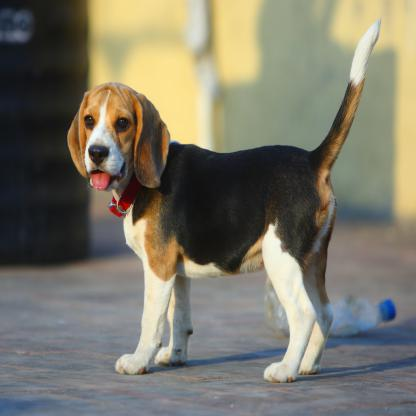Bigl: (58, 18, 384, 383)
